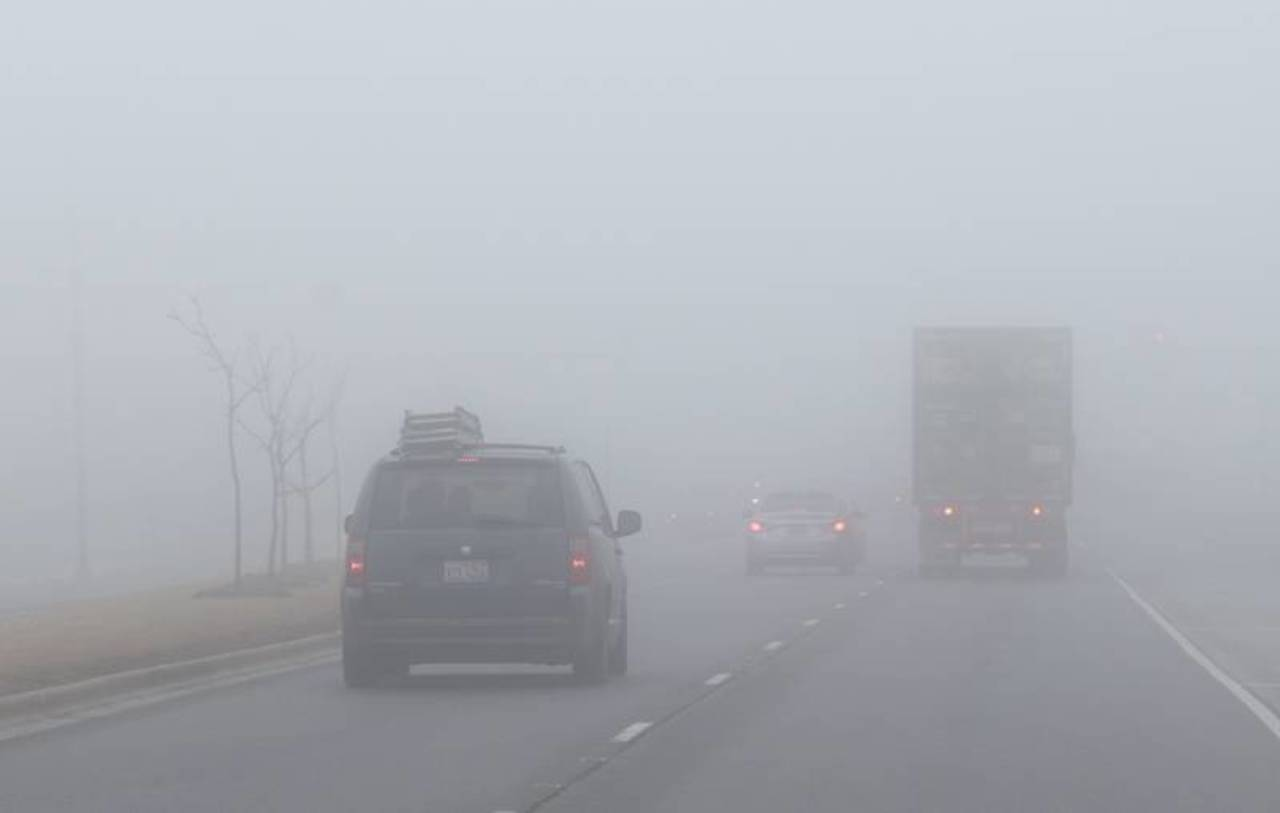car: (336, 433, 634, 689), (742, 489, 859, 577), (662, 489, 722, 529)
truck: (909, 323, 1078, 581)
